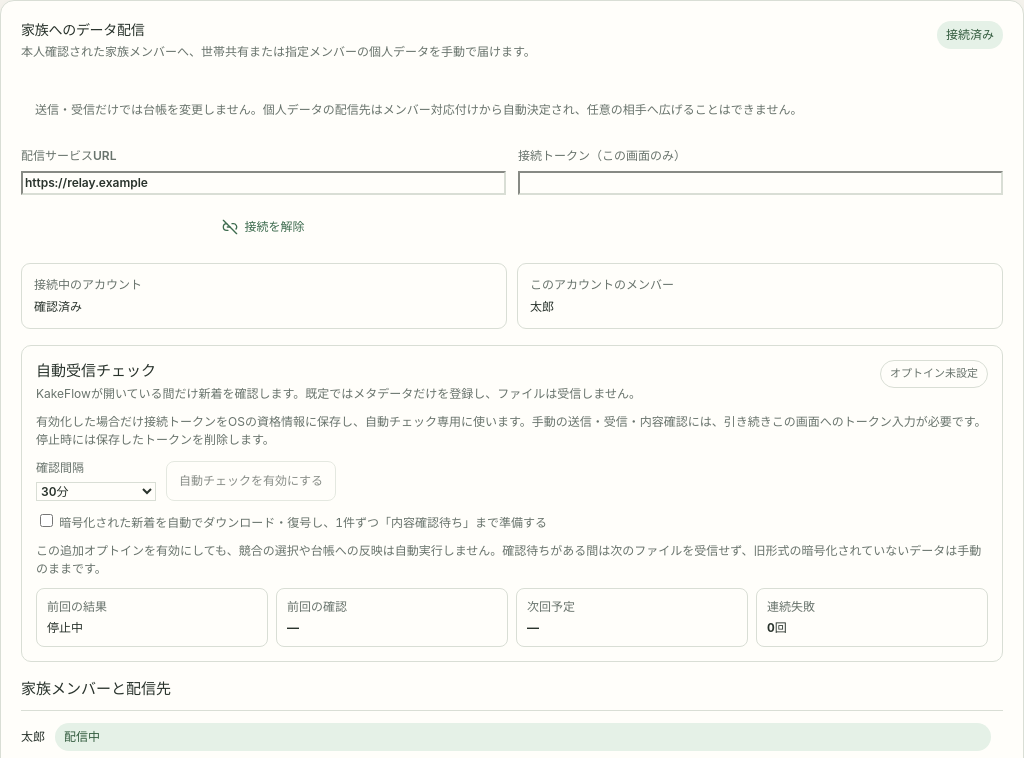
Test case: FamilyDeliveryPanel › uses an accessible confirmation before creating a member-bound invitation
Type "session-secret" into the password field labelled "接続トークン（この画面のみ）" at (760,183), box [518,171,1003,195]
(page scrolled)
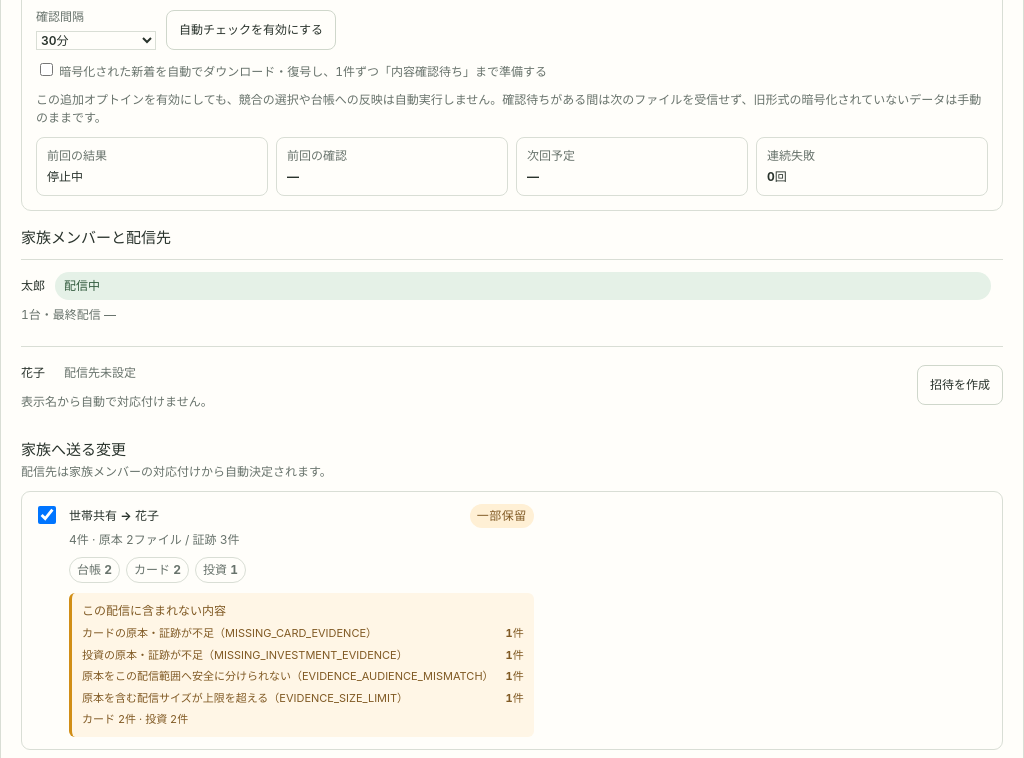
Click the button "招待を作成" at (960,385), box [917,365,1003,405]
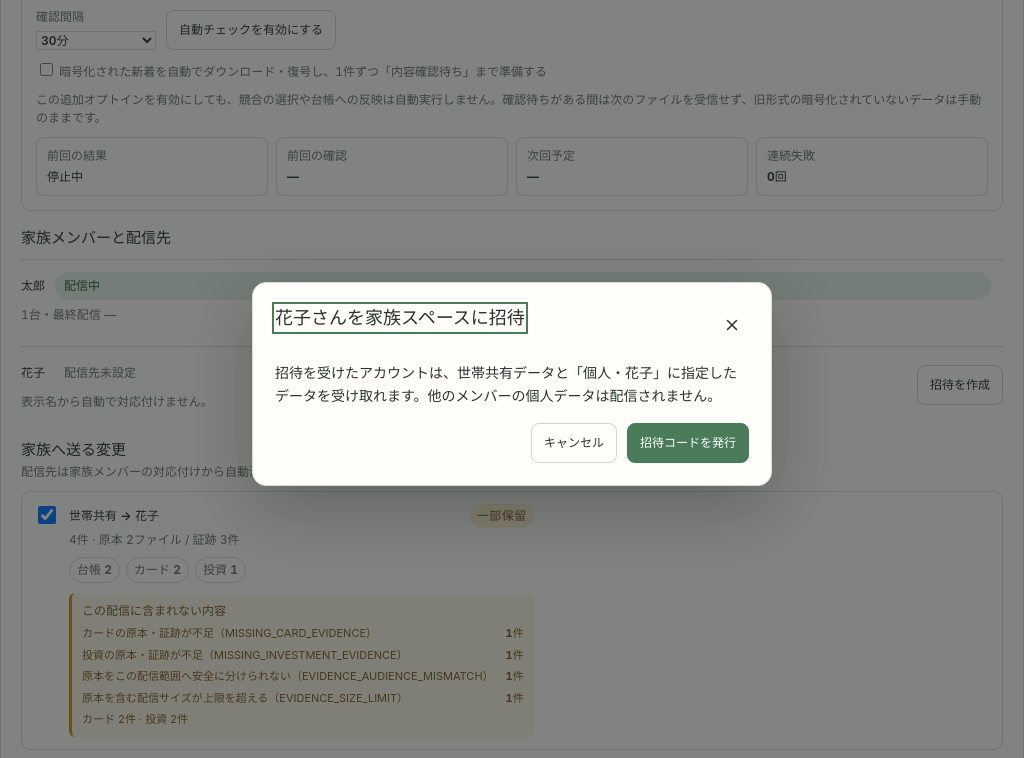
Check: the dialog "花子さんを家族スペースに招待" shows "他のメンバーの個人データは配信されません", box [275,364,737,404]
Click the button "招待コードを発行" at (688,443), box [627,423,749,463]
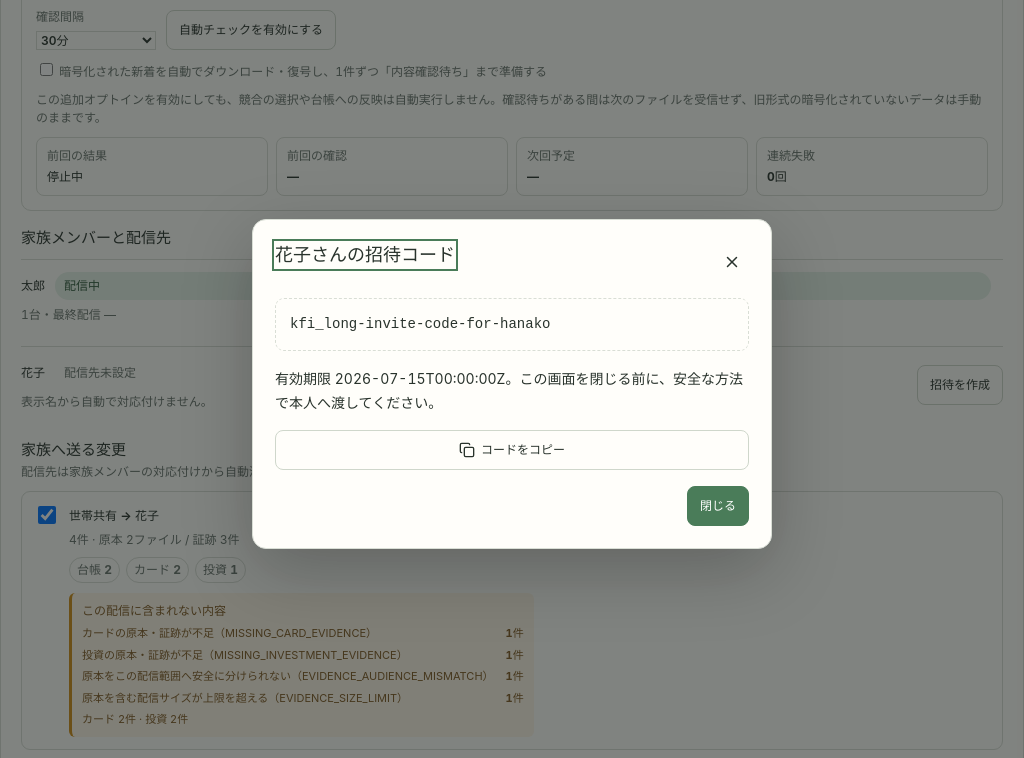
Check: the text "kfi_long-invite-code-for-hanako" is shown, box [275,298,749,352]
